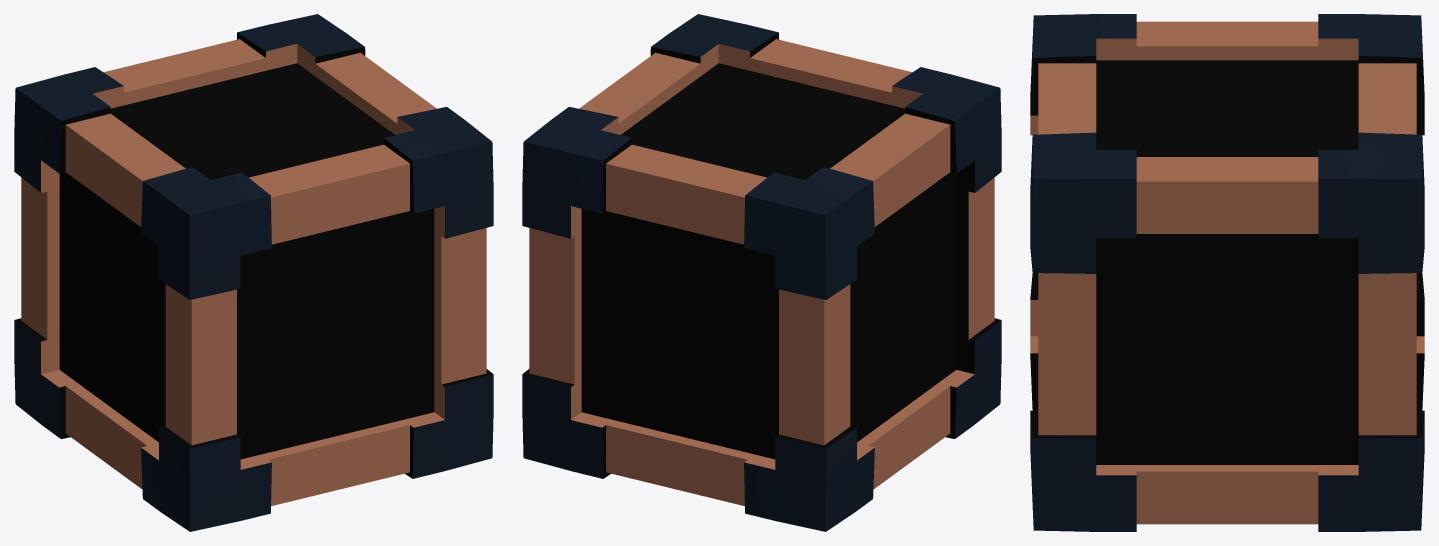
The model's file is crate_flower.gltf.
The picture shows the model from 3 angles, left to right: view 1: azimuth 30°, elevation 25°; view 2: azimuth 150°, elevation 25°; view 3: azimuth 270°, elevation 25°; orthographic projection. The views are drawn at different scales.
Visible parts, largest first — view 1: crate2.002; view 2: crate2.002; view 3: crate2.002.
Part boxes in pixels (x1,y1,x2,y2): crate2.002: [14, 14, 493, 531]; crate2.002: [522, 14, 1001, 531]; crate2.002: [1030, 14, 1424, 531].
Size of the model in its own units: 2 by 2 by 2.
Materials: 3 (1 with a texture image).
